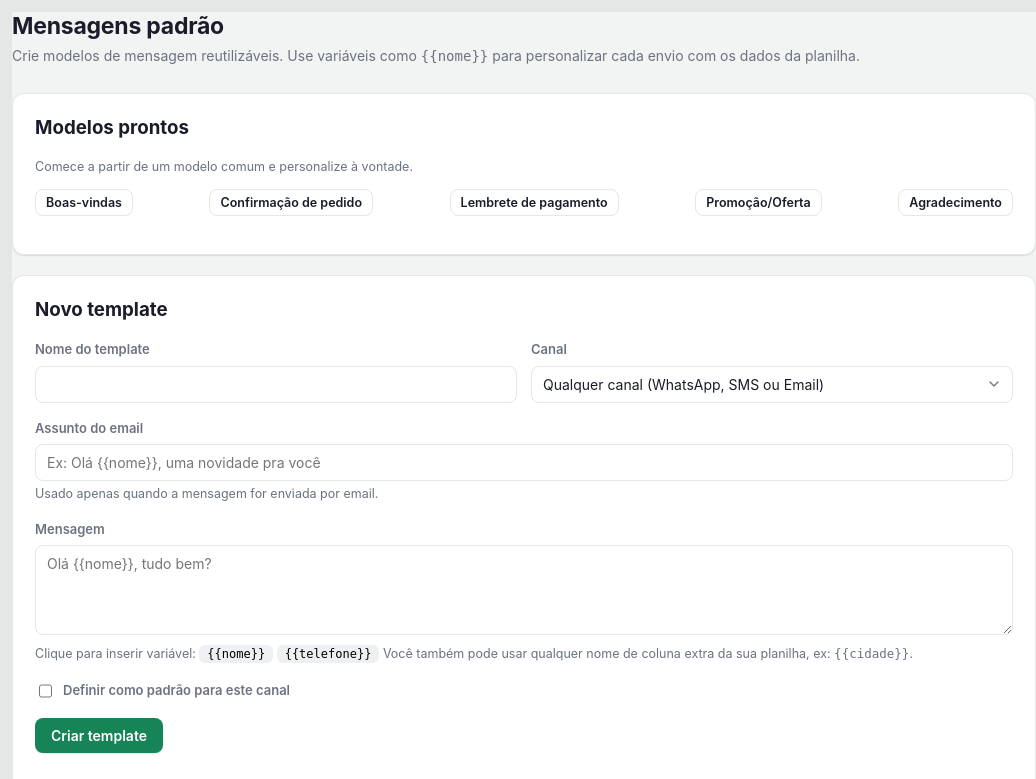
Test: TemplatesPage › shows a submit error without clearing the form
Type "Promo" into the field labelled "Nome do template" at (276, 384), box [35,366,517,403]
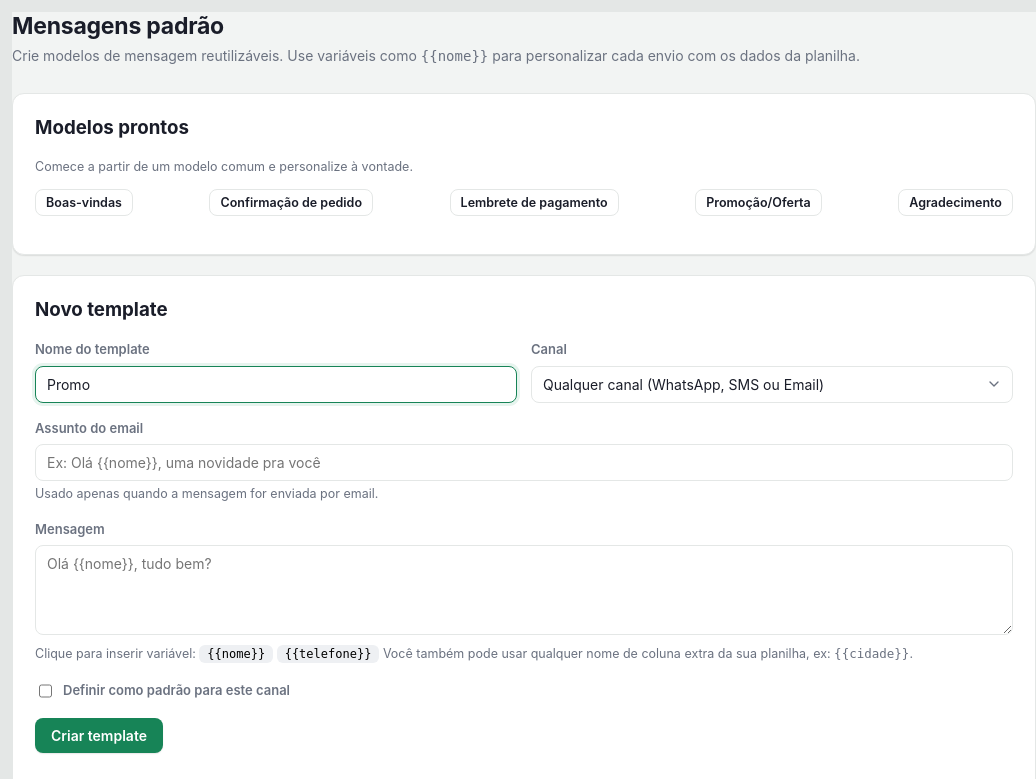
Type "Oi" into the text box labelled "Mensagem" at (524, 590), box [35,546,1013,636]
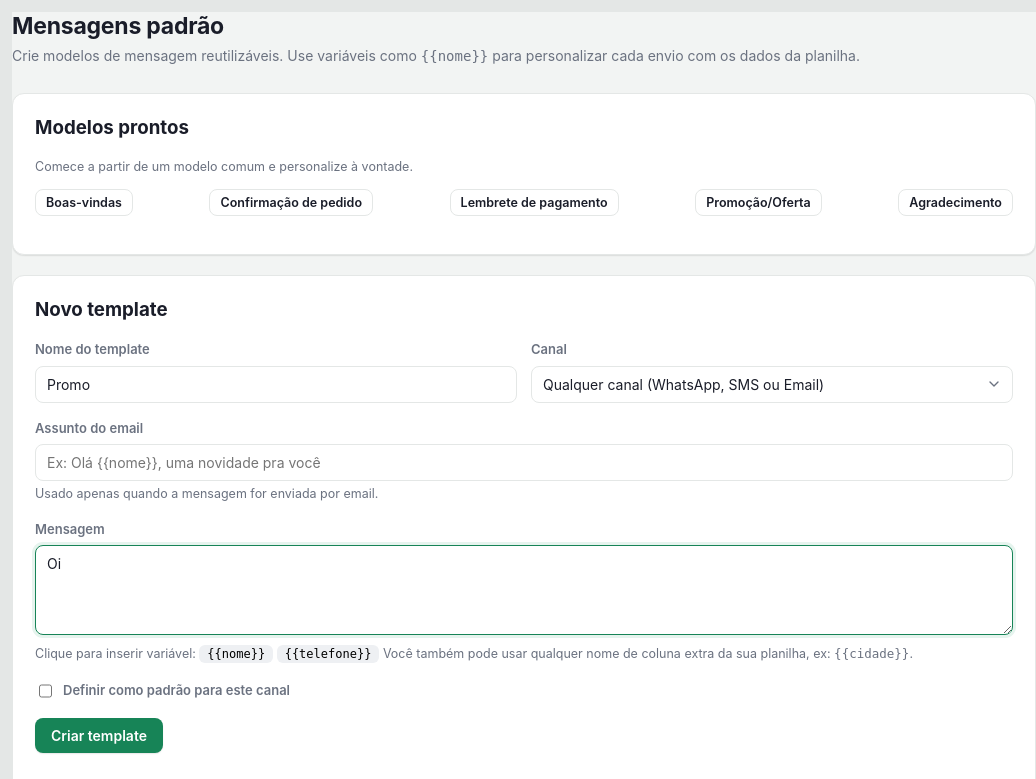
Click the button "Criar template" at (99, 736), box [35,718,163,753]
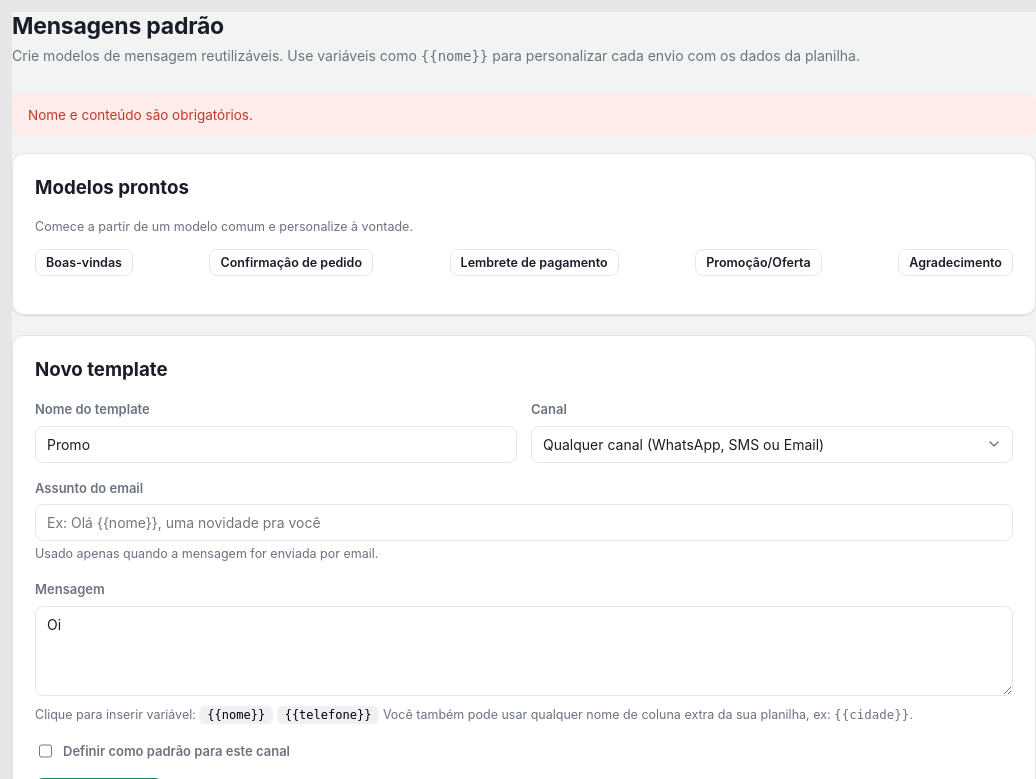
Now the text "Nome e conteúdo são obrigatórios." is shown, box [12,93,1035,137]
